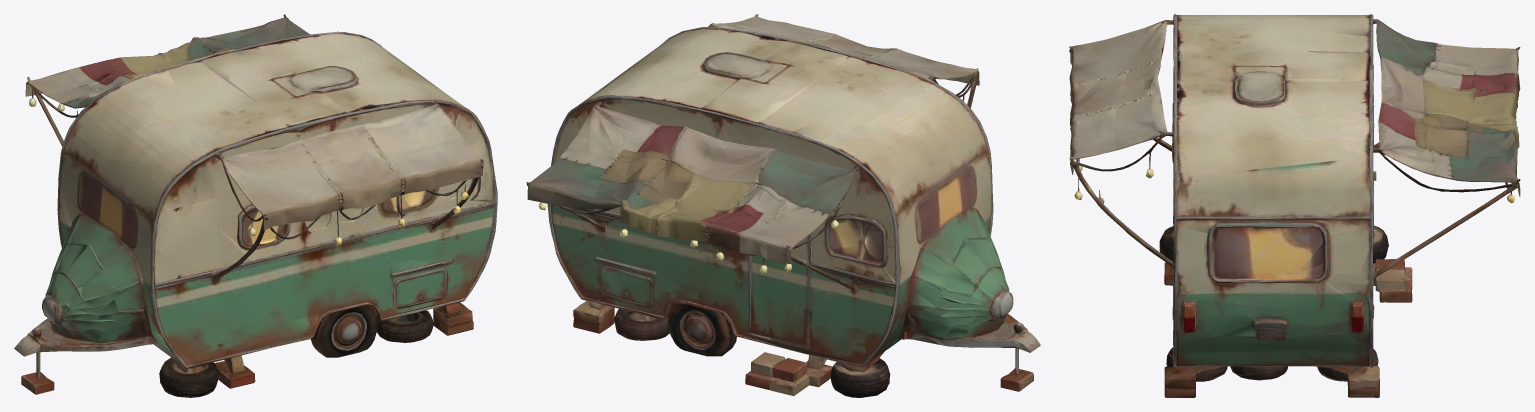
File: prop-caravan.glb
3 renders of one model, left to right at view 1: azimuth 30°, elevation 25°; view 2: azimuth 150°, elevation 25°; view 3: azimuth 270°, elevation 25°, orthographic. The views are drawn at different scales.
Size of the model in its own units: 1.9 by 1.02 by 1.61.
Materials: 1 (1 with a texture image).
